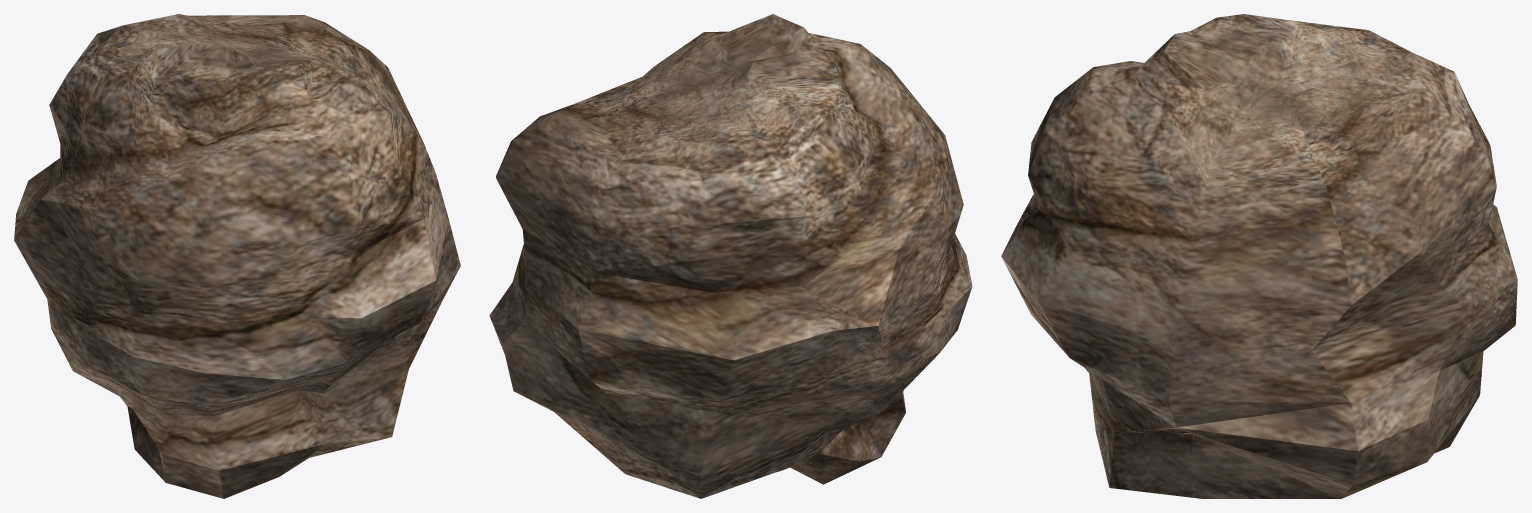
The model's file is RockSmallRound_LOD1.obj.
The picture shows the model from 3 angles, left to right: view 1: azimuth 30°, elevation 25°; view 2: azimuth 150°, elevation 25°; view 3: azimuth 270°, elevation 25°; orthographic projection. The views are drawn at different scales.
Visible parts, largest first — view 1: RockSmallRound_LOD1; view 2: RockSmallRound_LOD1; view 3: RockSmallRound_LOD1.
Part boxes in pixels (bbox=[...]): RockSmallRound_LOD1: bbox=[14, 14, 460, 498]; RockSmallRound_LOD1: bbox=[489, 14, 972, 498]; RockSmallRound_LOD1: bbox=[1001, 14, 1517, 498].
Size of the model in its own units: 1.23 by 1.25 by 1.33.
